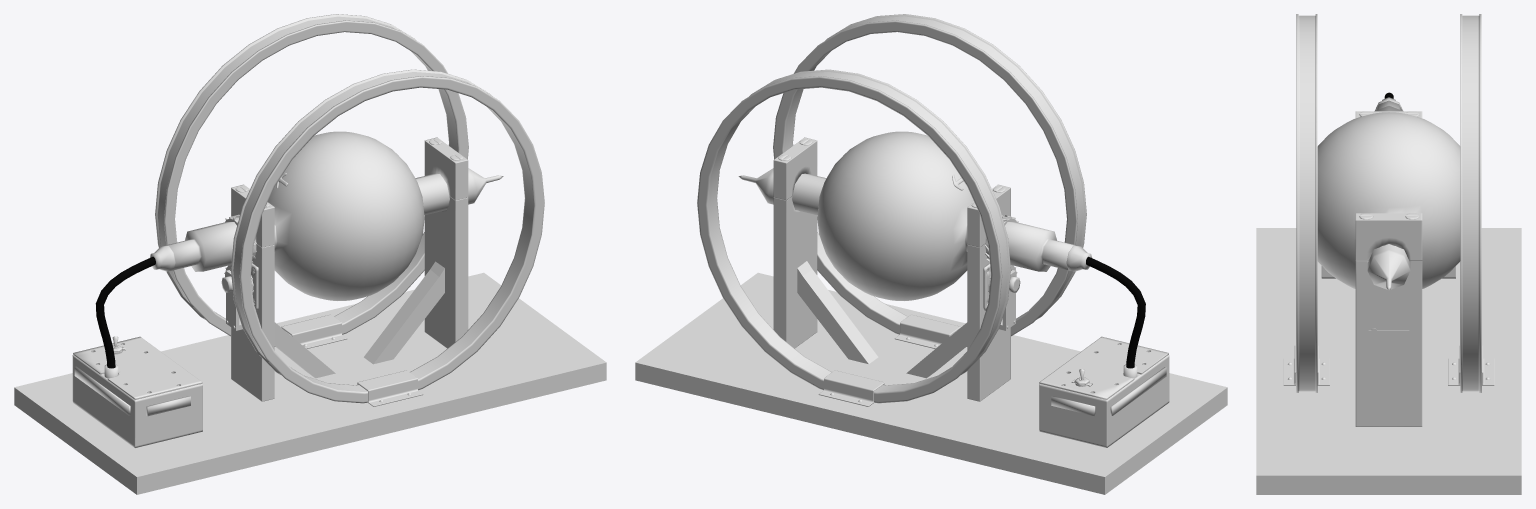
File: CR_All_L.fbx
The picture shows the model from 3 angles, left to right: view 1: azimuth 30°, elevation 25°; view 2: azimuth 150°, elevation 25°; view 3: azimuth 270°, elevation 25°; orthographic projection. The views are drawn at different scales.
Visible parts, largest first — view 1: estático, aros, vidro.001, suporte_madeira1, caixa, dinâmico; view 2: estático, aros, vidro.001, suporte_madeira1, caixa, dinâmico; view 3: estático, vidro.001, aros, suporte_madeira1, placa_extra, dinâmico.
Boxes of the visible parts, bbox=[...] form: estático: bbox=[14, 272, 606, 494]; aros: bbox=[155, 14, 544, 406]; vidro.001: bbox=[256, 131, 503, 300]; suporte_madeira1: bbox=[231, 137, 468, 401]; caixa: bbox=[72, 256, 202, 447]; dinâmico: bbox=[150, 222, 236, 271]; estático: bbox=[635, 272, 1227, 494]; aros: bbox=[697, 14, 1086, 406]; vidro.001: bbox=[738, 131, 973, 300]; suporte_madeira1: bbox=[773, 137, 1010, 401]; caixa: bbox=[1039, 256, 1169, 447]; dinâmico: bbox=[1005, 222, 1091, 271]; estático: bbox=[1256, 228, 1521, 494]; vidro.001: bbox=[1317, 112, 1460, 290]; aros: bbox=[1283, 14, 1494, 392]; suporte_madeira1: bbox=[1355, 111, 1422, 426]; placa_extra: bbox=[1368, 328, 1409, 340]; dinâmico: bbox=[1374, 97, 1403, 111].
Size of the model in its own units: 552 by 375 by 250.
